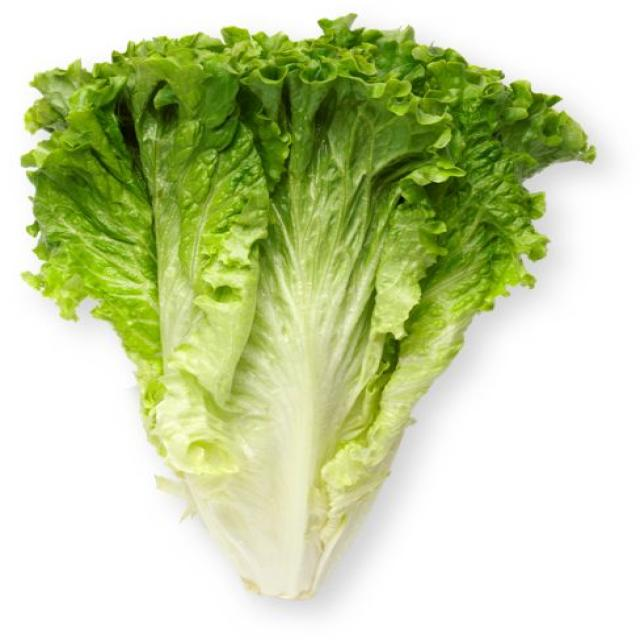lettuce: (24, 17, 594, 596)
